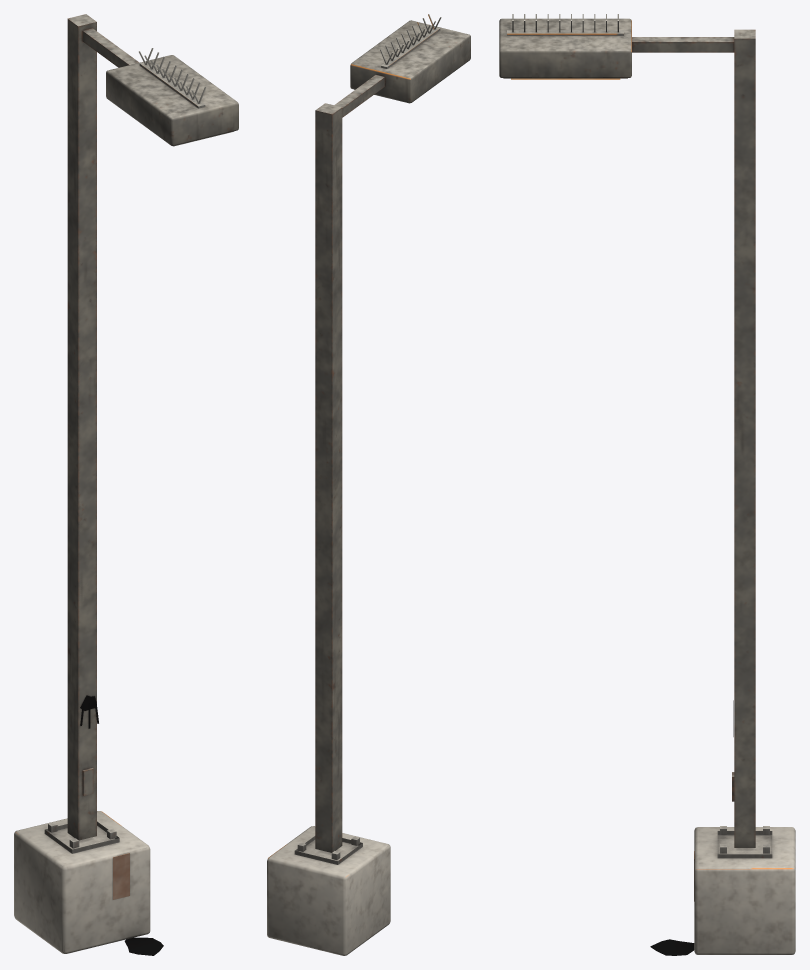
The model's file is sodium_lamp.fbx.
The picture shows the model from 3 angles, left to right: view 1: azimuth 30°, elevation 25°; view 2: azimuth 150°, elevation 25°; view 3: azimuth 270°, elevation 25°; orthographic projection. The views are drawn at different scales.
Visible parts, largest first — view 1: Body; view 2: Body; view 3: Body.
Part boxes in pixels (x1,y1,x2,y2): Body: [14, 14, 238, 955]; Body: [267, 14, 470, 955]; Body: [499, 14, 795, 955].
Bounding box in the file's own units: 2.6 × 25.99 × 7.6.
Materials: 1 (1 with a texture image).
